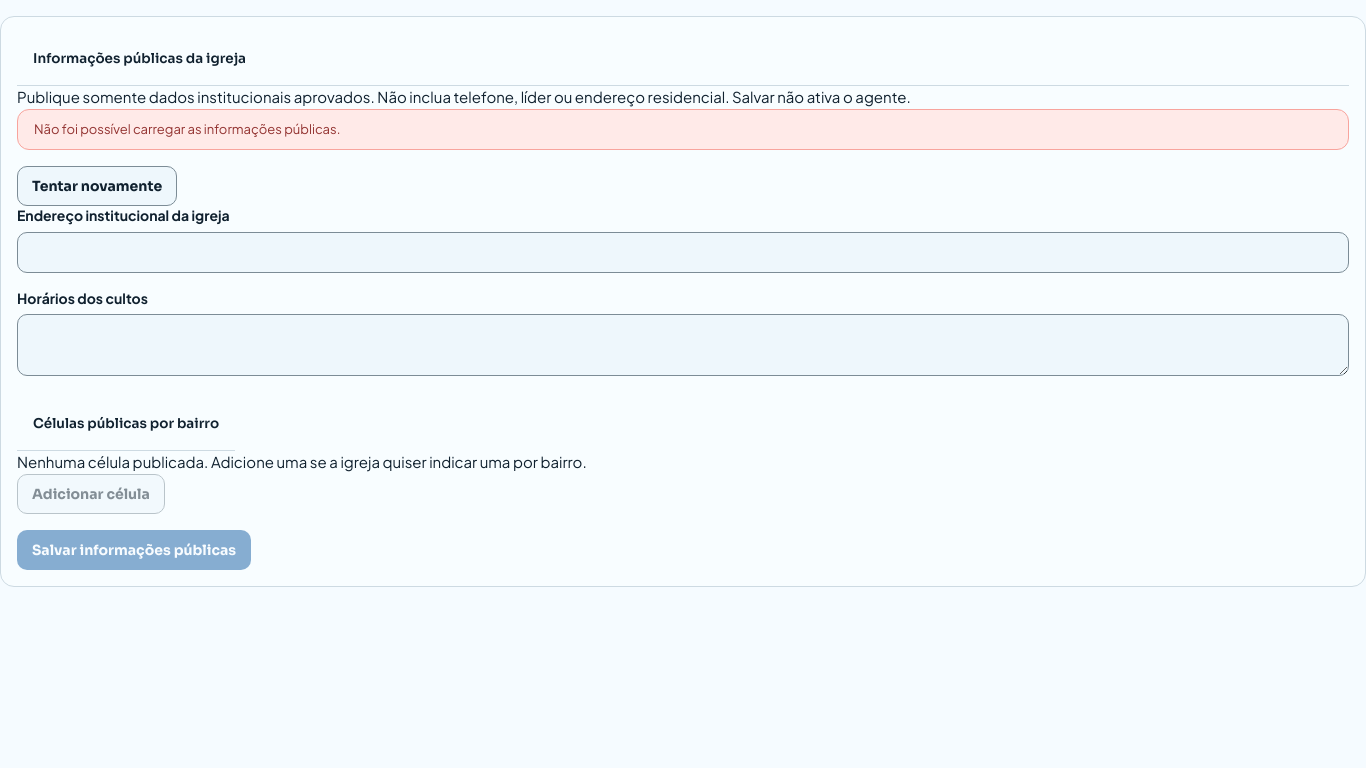
Test case: isola falha de GET e permite tentar novamente
The image size is (1366, 768).
Check: the message "Não foi possível carregar as informações públicas." is shown, box [17,109,1349,150]
Check: the button "Salvar informações públicas" is disabled, box [17,530,251,570]
Step 1. Click the button "Tentar novamente" → (97, 186), box [17,166,177,206]
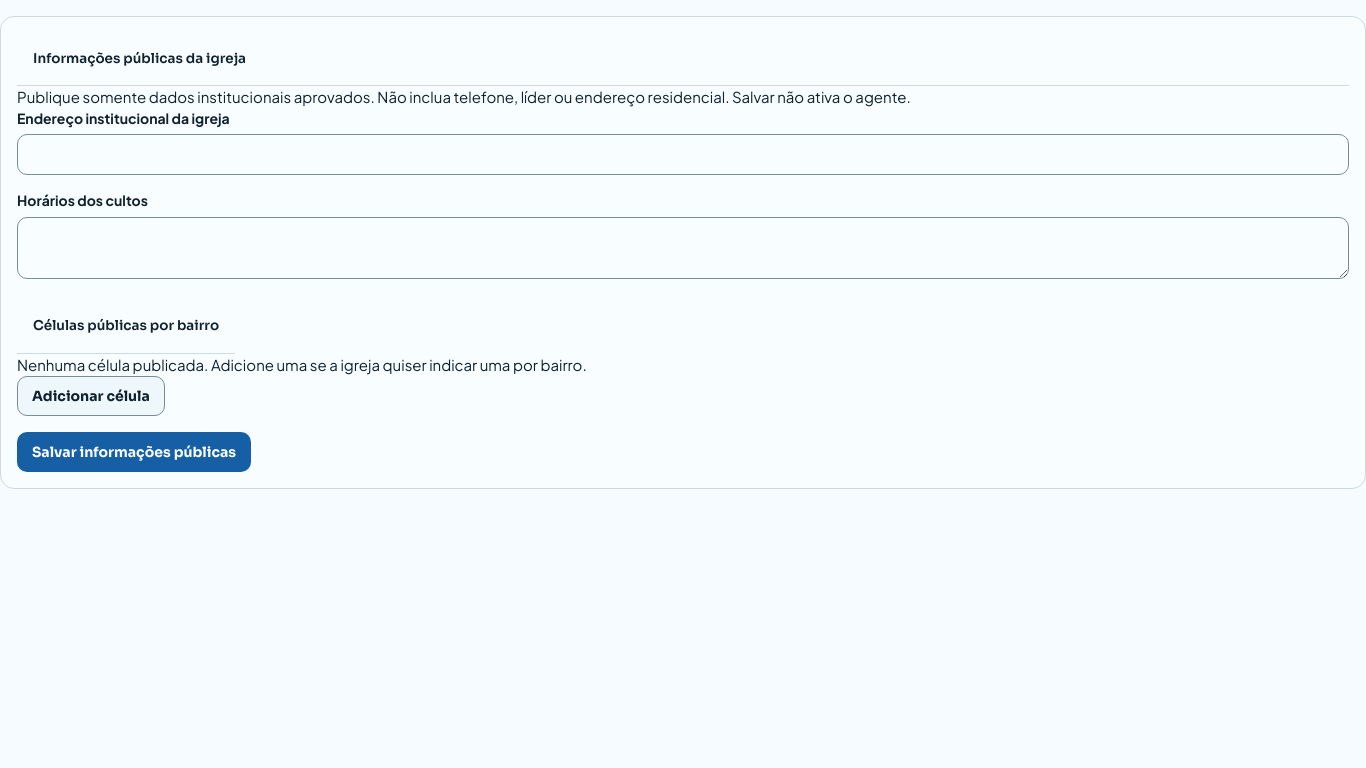
Check: the button "Salvar informações públicas" is enabled, box [17,432,251,472]
